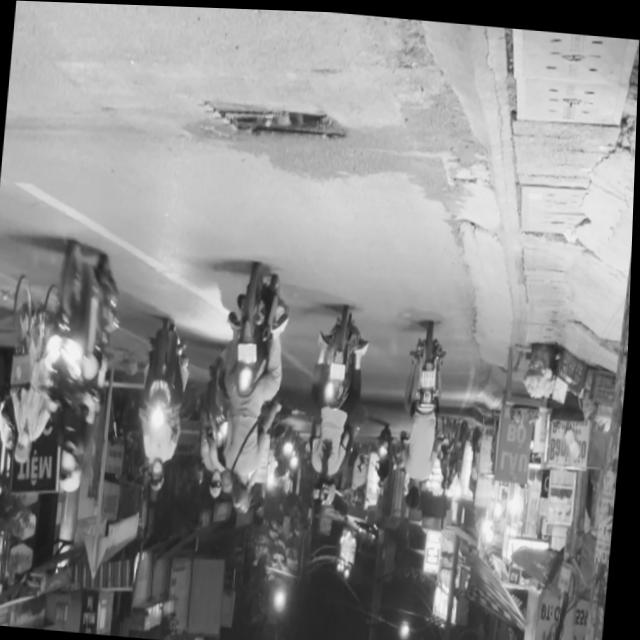helmet: (59, 448, 87, 495), (232, 474, 255, 512), (150, 461, 168, 493)
licenseplate: (33, 235, 127, 499), (206, 262, 295, 517), (134, 316, 195, 495)
nohelmet: (239, 341, 260, 363)
